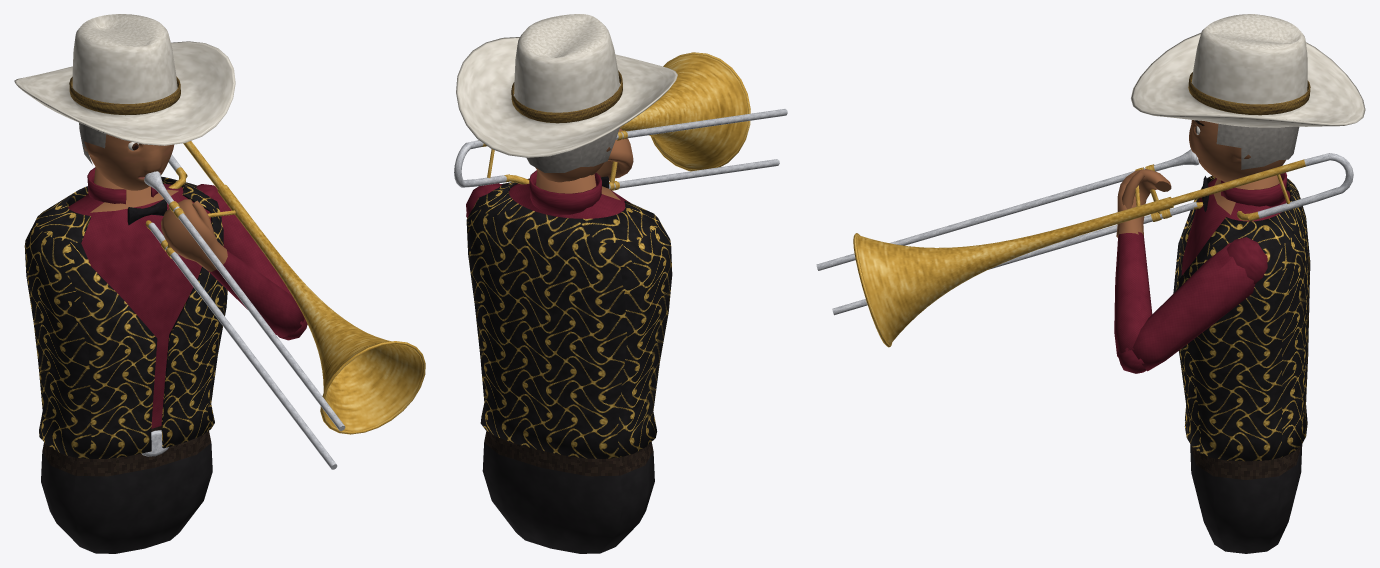
The model's file is torso.obj.
3 views of the same model, side by side, from view 1: azimuth 30°, elevation 25°; view 2: azimuth 150°, elevation 25°; view 3: azimuth 270°, elevation 25° (orthographic).
Visible parts, largest first — view 1: trombon_Chaleco, trombon_Torso, trombon_Sombrero, trombon_Trombon, trombon_AntebrazoIzq, trombon_Cabeza, trombon_ManoIzq, trombon_BrazoIzq, trombon_Cuello, trombon_Pelo, trombon_Mono; view 2: trombon_Chaleco, trombon_Sombrero, trombon_Torso, trombon_Trombon, trombon_Pelo, trombon_Cuello, trombon_ManoIzq, trombon_Cabeza; view 3: trombon_Chaleco, trombon_Sombrero, trombon_Trombon, trombon_Torso, trombon_BrazoIzq, trombon_AntebrazoIzq, trombon_Pelo, trombon_Cabeza, trombon_ManoIzq, trombon_HombroIzq, trombon_Cuello.
Boxes of the visible parts, x1,y1,x2,y2 form: trombon_Chaleco: (24, 176, 227, 458); trombon_Torso: (41, 166, 212, 553); trombon_Sombrero: (14, 14, 235, 145); trombon_Trombon: (144, 141, 425, 469); trombon_AntebrazoIzq: (207, 251, 304, 337); trombon_Cabeza: (84, 134, 173, 190); trombon_ManoIzq: (161, 199, 227, 271); trombon_BrazoIzq: (209, 196, 292, 296); trombon_Cuello: (87, 167, 158, 204); trombon_Pelo: (79, 122, 106, 164); trombon_Mono: (127, 199, 167, 225); trombon_Chaleco: (466, 178, 672, 458); trombon_Sombrero: (456, 14, 677, 157); trombon_Torso: (482, 171, 654, 553); trombon_Trombon: (454, 52, 787, 190); trombon_Pelo: (526, 127, 619, 172); trombon_Cuello: (529, 170, 601, 214); trombon_ManoIzq: (596, 128, 633, 180); trombon_Cabeza: (535, 147, 610, 182); trombon_Chaleco: (1173, 175, 1310, 461); trombon_Sombrero: (1131, 14, 1365, 127); trombon_Trombon: (816, 149, 1353, 347); trombon_Torso: (1181, 175, 1302, 553); trombon_BrazoIzq: (1132, 242, 1255, 371); trombon_AntebrazoIzq: (1114, 221, 1152, 357); trombon_Pelo: (1216, 124, 1299, 169); trombon_Cabeza: (1189, 120, 1285, 181); trombon_ManoIzq: (1116, 169, 1171, 237); trombon_HombroIzq: (1226, 237, 1267, 283); trombon_Cuello: (1221, 172, 1286, 206).
Bounding box in the file's own units: 0.4638 × 1.03 × 1.02.
16 materials, 16 textured.
